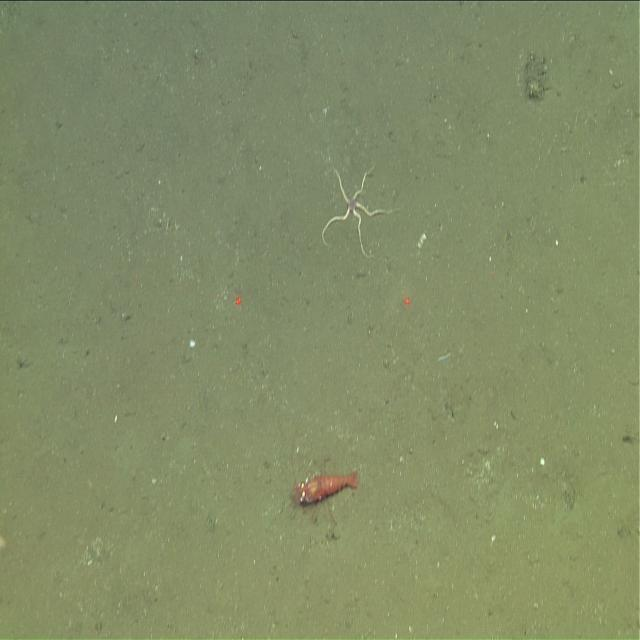Brittle Star: (318, 153, 403, 266)
